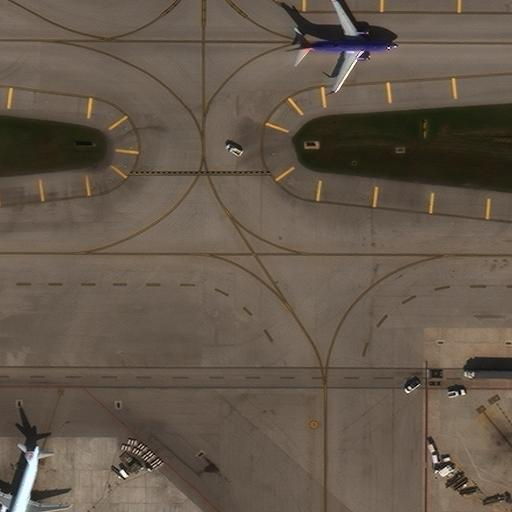Large Civil Transport: (286, 0, 398, 94)
Medium Civil Transport: (0, 445, 70, 512)
